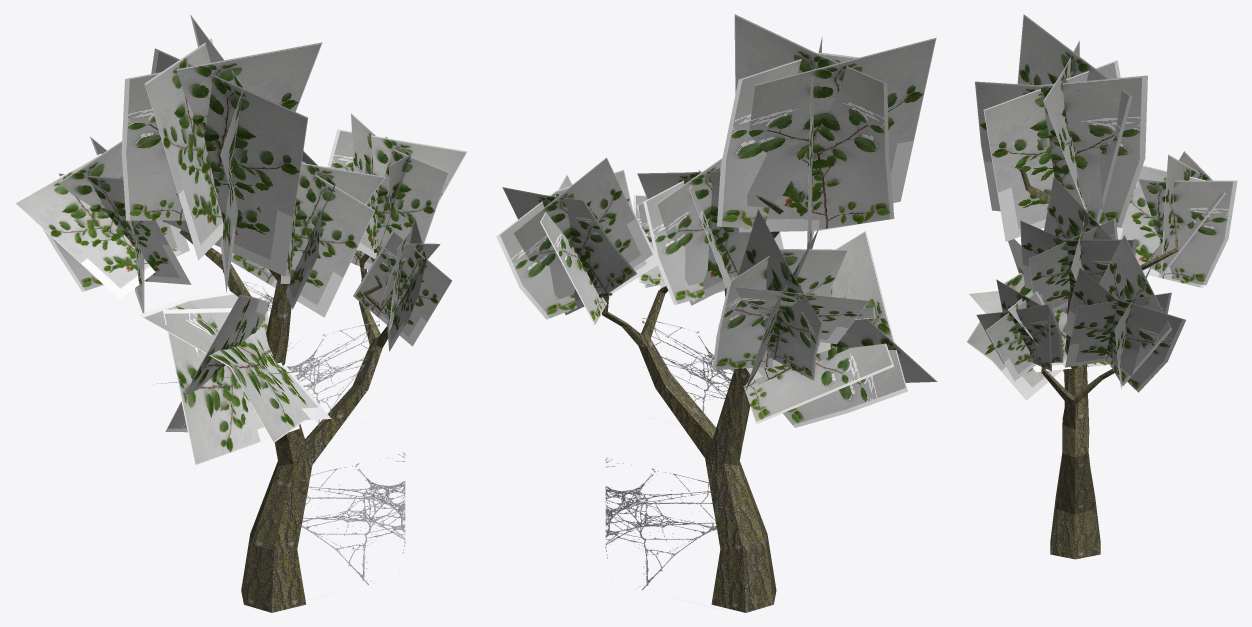
Rendered from treeCobweb1.glb.
The picture shows the model from 3 angles, left to right: view 1: azimuth 30°, elevation 25°; view 2: azimuth 150°, elevation 25°; view 3: azimuth 270°, elevation 25°; orthographic projection. The views are drawn at different scales.
Parts seen in each view (by area): view 1: Tree, Plane.005, Plane.004, Plane.030, Plane.031, Plane.007, Plane.027, Plane.009, Plane.013, Plane.017, Plane.025, Plane.024 (+12 smaller); view 2: Plane.004, Tree, Plane.007, Plane.028, Plane.019, Plane.026, Plane.006, Plane.024, Plane.033, Plane.016, Plane.011, Plane.018 (+10 smaller); view 3: Plane.006, Plane.005, Tree, Plane.026, Plane.018, Plane.007, Plane.010, Plane.019, Plane.017, Plane.025, Plane.009, Plane.030 (+9 smaller).
Part boxes in pixels (bbox=[...]): Tree: bbox=[176, 193, 388, 612]; Plane.005: bbox=[151, 48, 307, 276]; Plane.004: bbox=[121, 42, 322, 220]; Plane.030: bbox=[138, 290, 331, 442]; Plane.031: bbox=[163, 308, 299, 465]; Plane.007: bbox=[144, 38, 223, 260]; Plane.027: bbox=[14, 153, 181, 299]; Plane.009: bbox=[231, 175, 375, 317]; Plane.013: bbox=[353, 230, 452, 346]; Plane.017: bbox=[351, 149, 448, 269]; Plane.025: bbox=[59, 173, 191, 284]; Plane.024: bbox=[43, 141, 189, 291]; Plane.004: bbox=[734, 14, 894, 232]; Tree: bbox=[599, 195, 783, 612]; Plane.007: bbox=[735, 37, 936, 229]; Plane.028: bbox=[718, 231, 907, 427]; Plane.019: bbox=[513, 157, 652, 312]; Plane.026: bbox=[712, 249, 847, 370]; Plane.006: bbox=[717, 52, 893, 231]; Plane.024: bbox=[738, 209, 822, 380]; Plane.033: bbox=[743, 343, 894, 423]; Plane.016: bbox=[502, 187, 636, 314]; Plane.011: bbox=[657, 158, 783, 302]; Plane.018: bbox=[496, 170, 657, 319]; Plane.006: bbox=[975, 75, 1147, 227]; Plane.005: bbox=[983, 60, 1138, 241]; Tree: bbox=[1020, 168, 1178, 559]; Plane.026: bbox=[1138, 178, 1237, 285]; Plane.018: bbox=[1064, 267, 1185, 392]; Plane.007: bbox=[1017, 14, 1132, 223]; Plane.010: bbox=[1020, 220, 1137, 292]; Plane.019: bbox=[1099, 235, 1172, 385]; Plane.017: bbox=[1065, 292, 1171, 367]; Plane.025: bbox=[1117, 165, 1205, 288]; Plane.009: bbox=[1029, 218, 1117, 311]; Plane.030: bbox=[966, 272, 1067, 400].
Size of the model in its own units: 15.42 by 21.21 by 10.83.
Materials: 5 (5 with a texture image).
